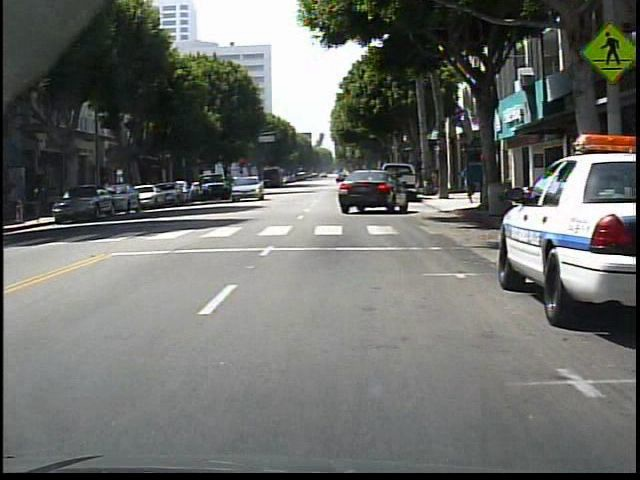person: (459, 160, 481, 209)
